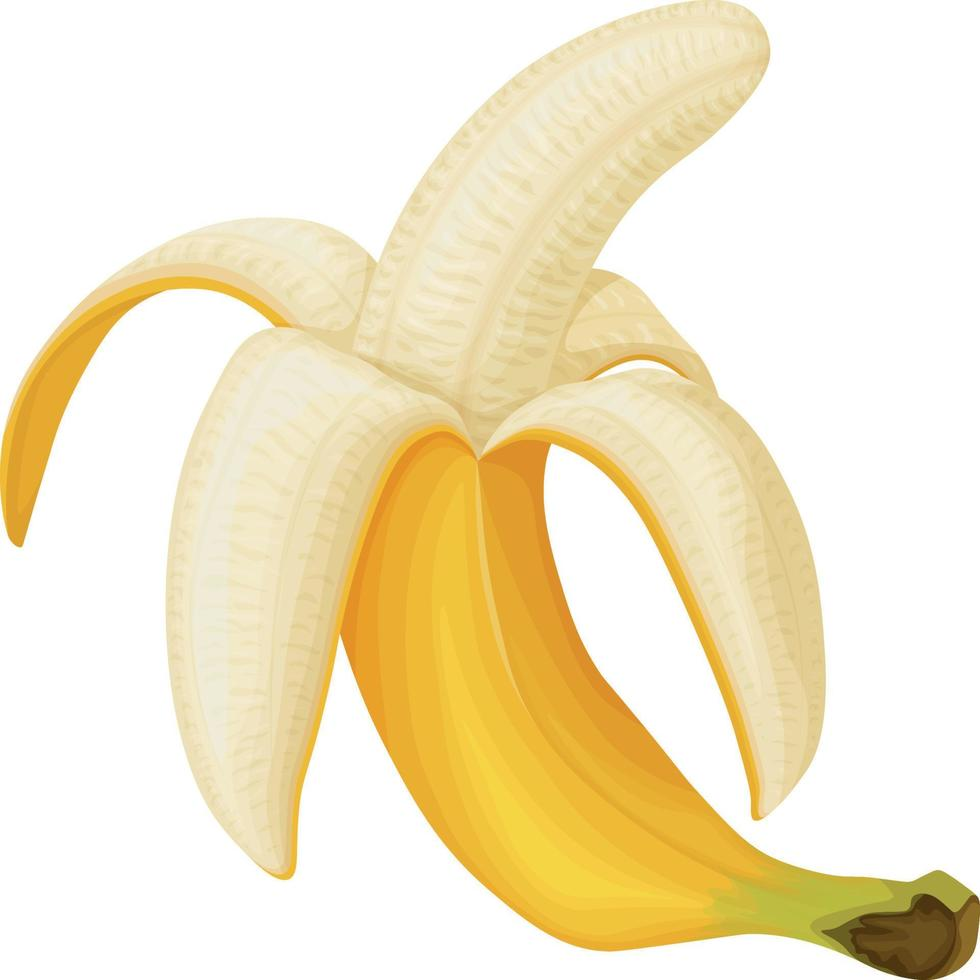banana: (10, 16, 980, 980)
